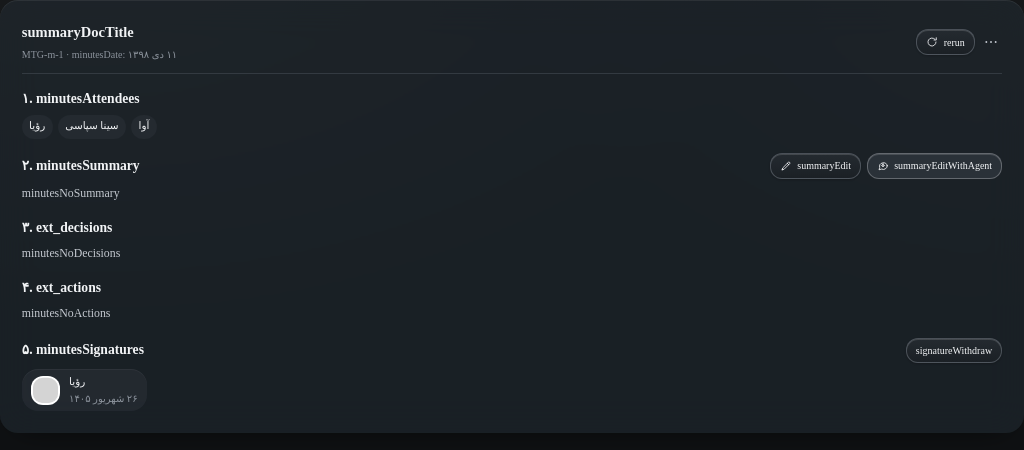
Scenario: the signatures at the foot of the document (db/0229) › takes a signature back on the reader's own press, and adopts the server's answer
The image size is (1024, 450).
Click the button "signatureWithdraw" at (954, 351), box [906,338,1002,363]
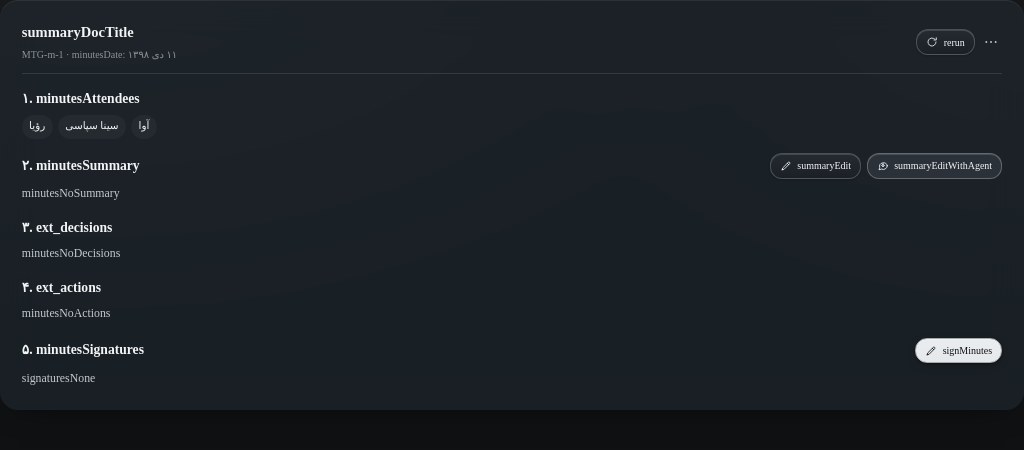
Expected: the button "signMinutes" is shown, [915,338,1002,363]
Expected: the text "signaturesNone" is shown, [22,371,95,385]
